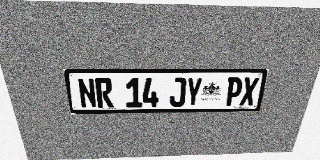1: (125, 78, 142, 107)
4: (142, 78, 159, 107)
J: (169, 78, 186, 107)
N: (77, 78, 97, 108)
P: (224, 77, 244, 106)
R: (94, 78, 114, 108)
X: (239, 77, 259, 106)
Y: (185, 77, 203, 107)
